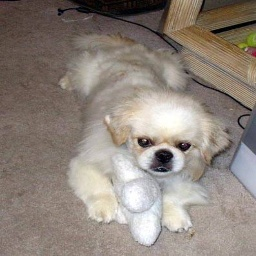dog: (57, 30, 230, 236)
